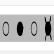correct: (16, 18, 24, 38)
no answer: (30, 16, 38, 38), (2, 20, 10, 39)
not correct: (44, 15, 52, 42)
